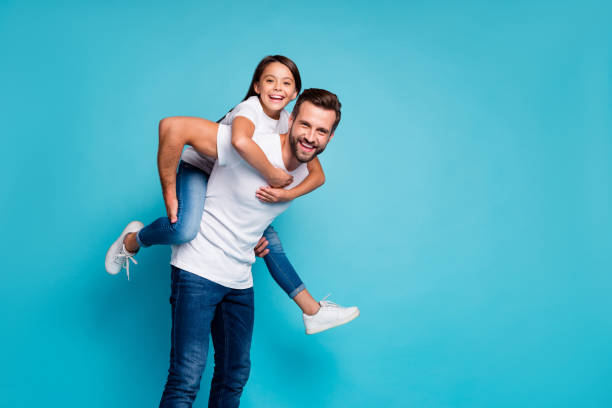without mask: (248, 52, 300, 110), (287, 104, 339, 162)
